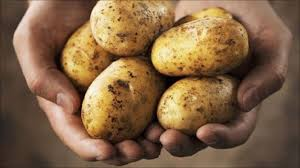potato: (77, 52, 163, 138), (158, 77, 257, 131), (152, 19, 261, 68), (85, 2, 170, 51)
